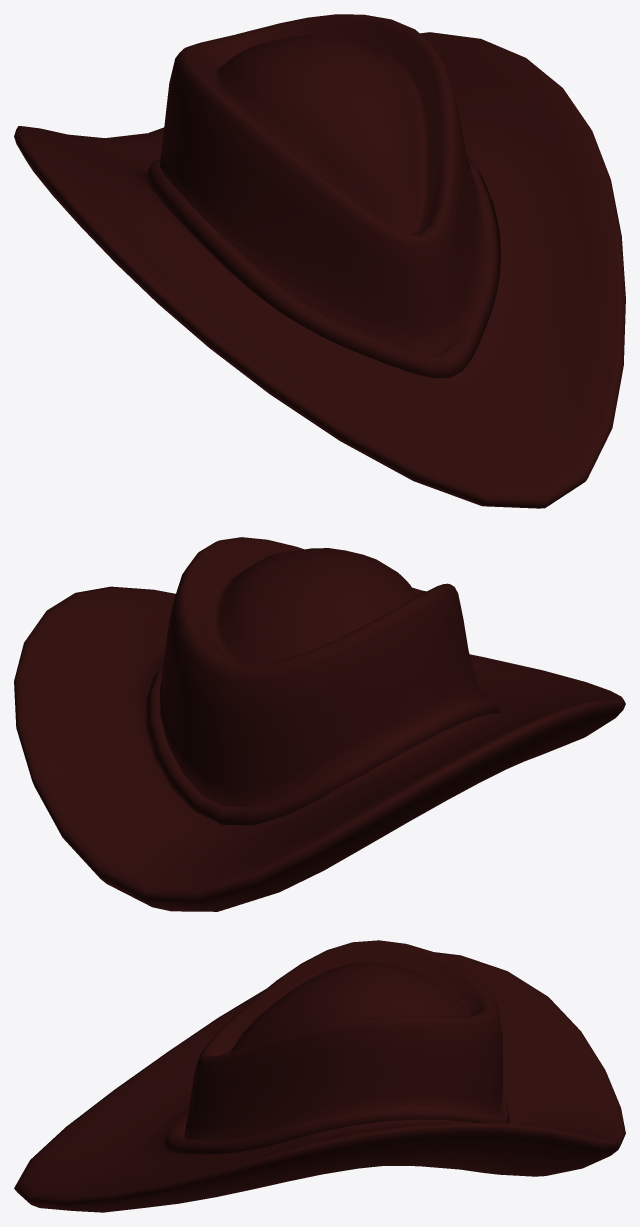
Rendered from Hat.obj.
3 renders of one model, top to bottom at view 1: azimuth 30°, elevation 25°; view 2: azimuth 150°, elevation 25°; view 3: azimuth 270°, elevation 25°, orthographic. The views are drawn at different scales.
Visible parts, largest first — view 1: Hat_Hat; view 2: Hat_Hat; view 3: Hat_Hat.
Part boxes in pixels (x1=…): Hat_Hat: x1=14, y1=14, x2=625, y2=508; Hat_Hat: x1=14, y1=537, x2=625, y2=911; Hat_Hat: x1=14, y1=940, x2=625, y2=1212.
Bounding box in the file's own units: 0.6165 × 0.3587 × 0.8731.
